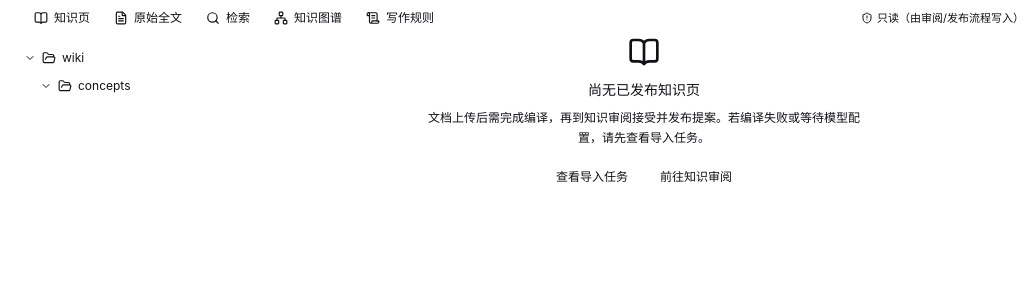
KbWikiTab — 图视图入口 › 知识图谱作为独立子导航进入，并可跳回知识页阅读
The image size is (1036, 308).
Click the button with test id "kb-wiki-graph-tab": click(308, 18) [264,6,352,30]
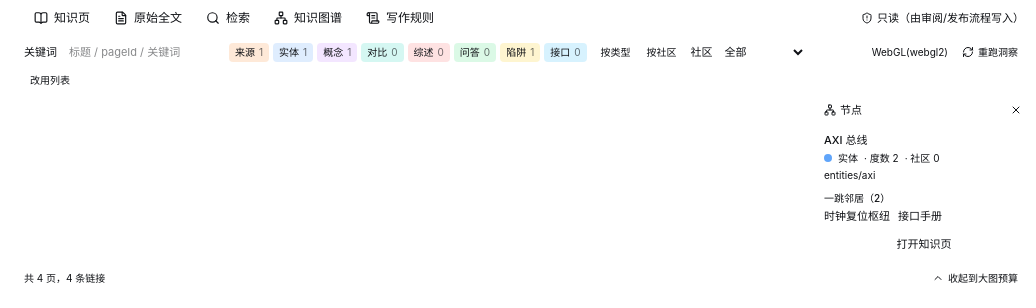
Result: the element with test id "kb-wiki-graph" is shown
Click the button with test id "kb-graph-detail-open-page": click(924, 244) [824,232,1024,256]
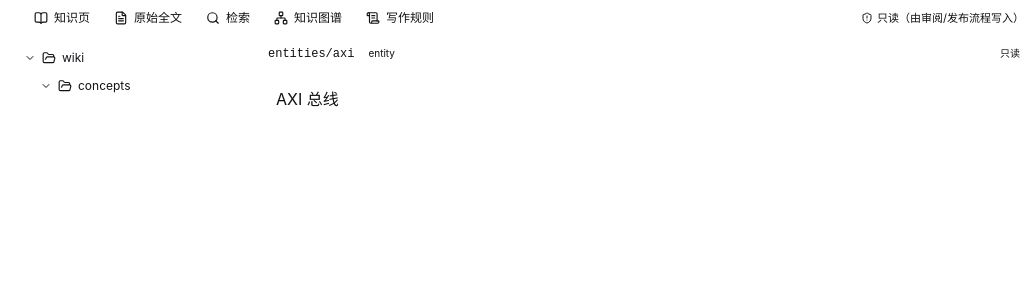
Result: the element with test id "kb-wiki-graph" is gone
